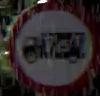Heavy Vehicles: (11, 2, 95, 95)
